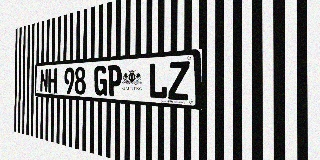8: (75, 67, 86, 95)
9: (64, 67, 74, 94)
G: (94, 65, 107, 96)
H: (48, 68, 57, 93)
L: (148, 62, 167, 99)
N: (40, 69, 48, 93)
P: (107, 65, 122, 97)
Z: (168, 61, 190, 101)
